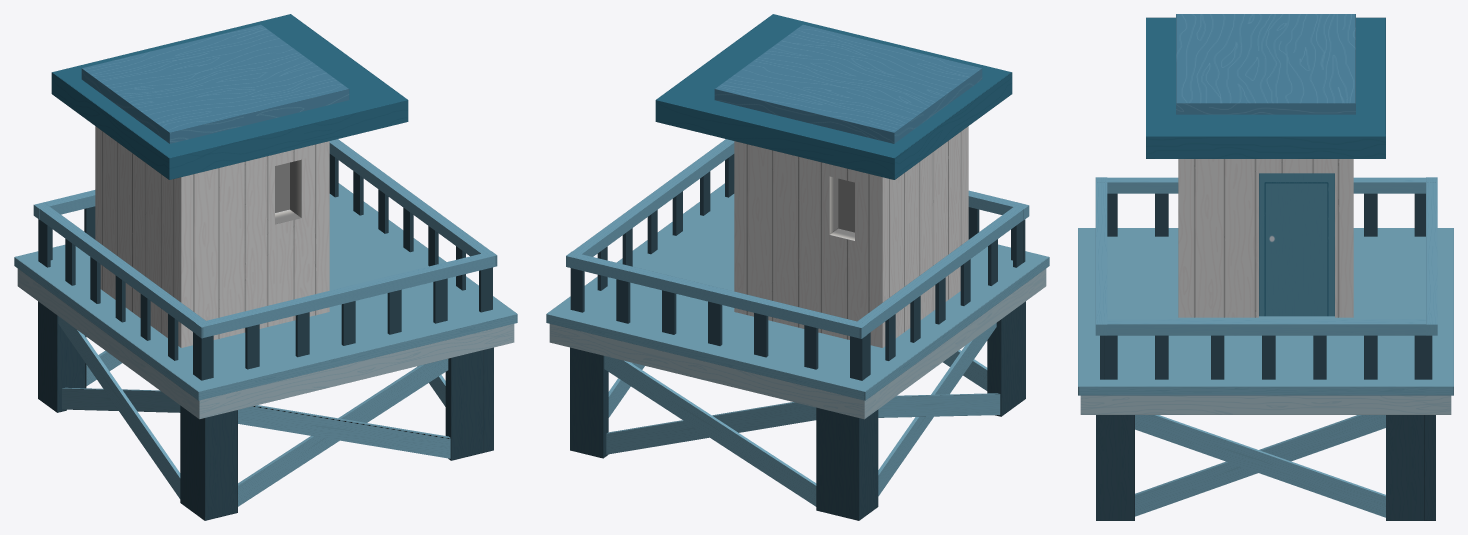
The model's file is Cabin.fbx.
The picture shows the model from 3 angles, left to right: view 1: azimuth 30°, elevation 25°; view 2: azimuth 150°, elevation 25°; view 3: azimuth 270°, elevation 25°; orthographic projection.
Visible parts, largest first — view 1: Cabin; view 2: Cabin; view 3: Cabin.
Boxes of the visible parts, <box> form: Cabin: <box>14,14,517,520</box>; Cabin: <box>546,14,1049,520</box>; Cabin: <box>1078,14,1453,520</box>.
Size of the model in its own units: 100 by 108 by 100.
7 materials, 7 textured.
